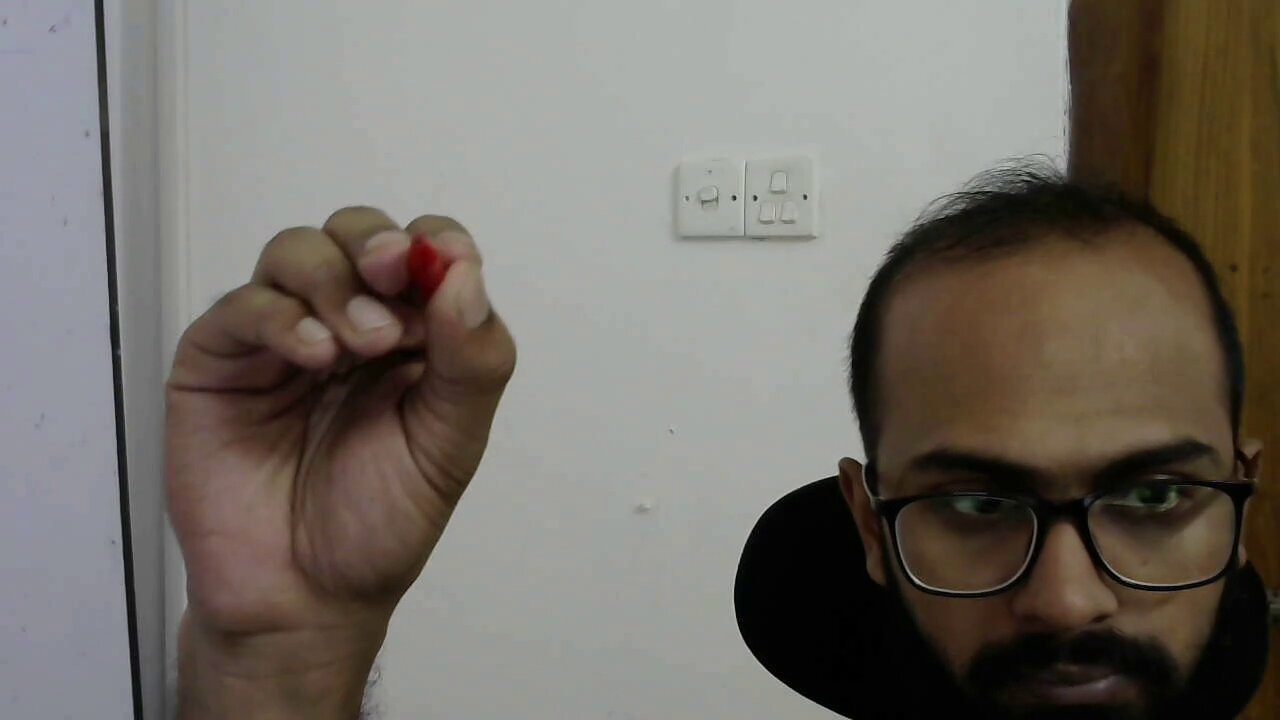pointer: (158, 206, 519, 532)
